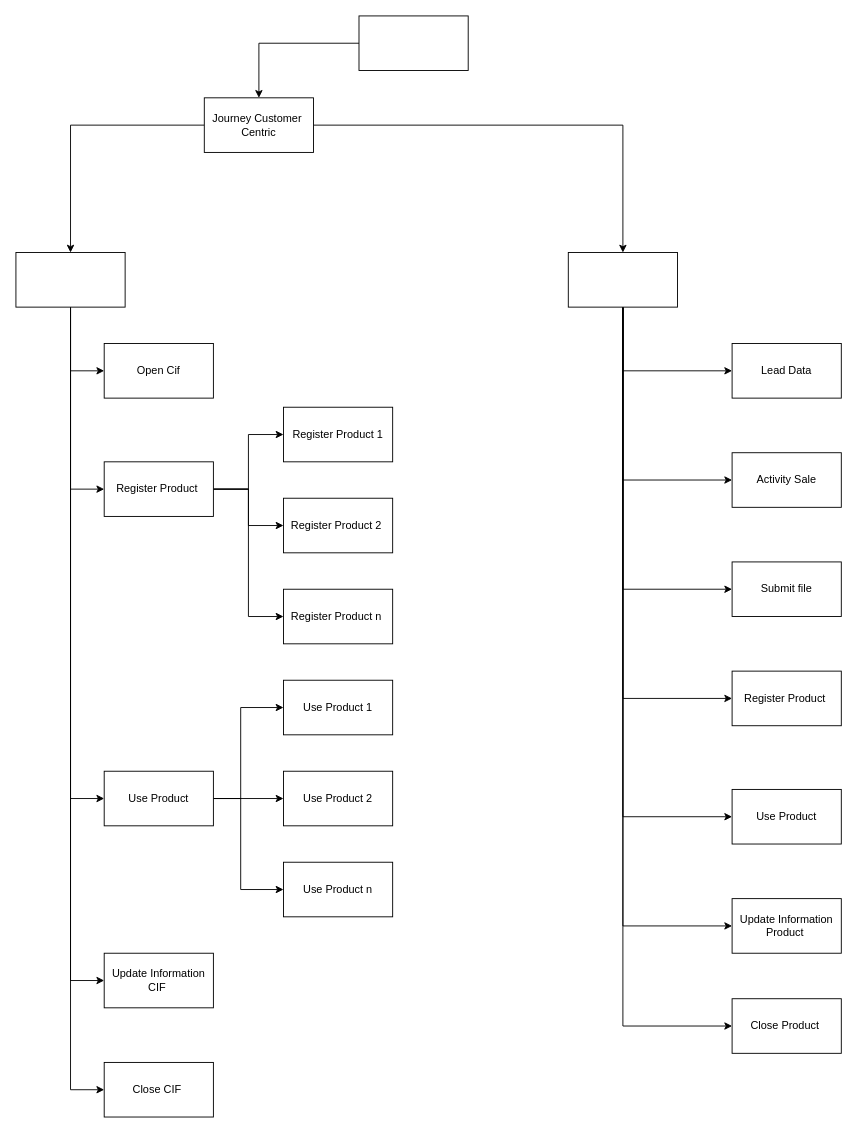
Image size: 857x1133. Some labels were removed from this diagram. The centre of each missing label's shape, as x and y in pixels:
"Journey Customer Centric by Product" goes at point (622, 279).
"Journey Customer Life Cycle Centric" goes at point (70, 279).
"OBJECT CENTRIC" goes at point (413, 43).
